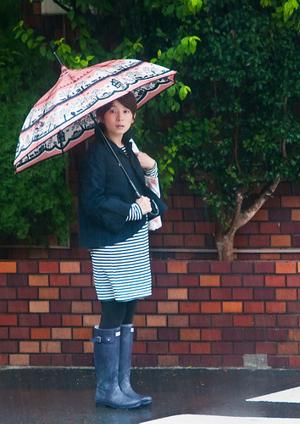person: (79, 92, 164, 410)
